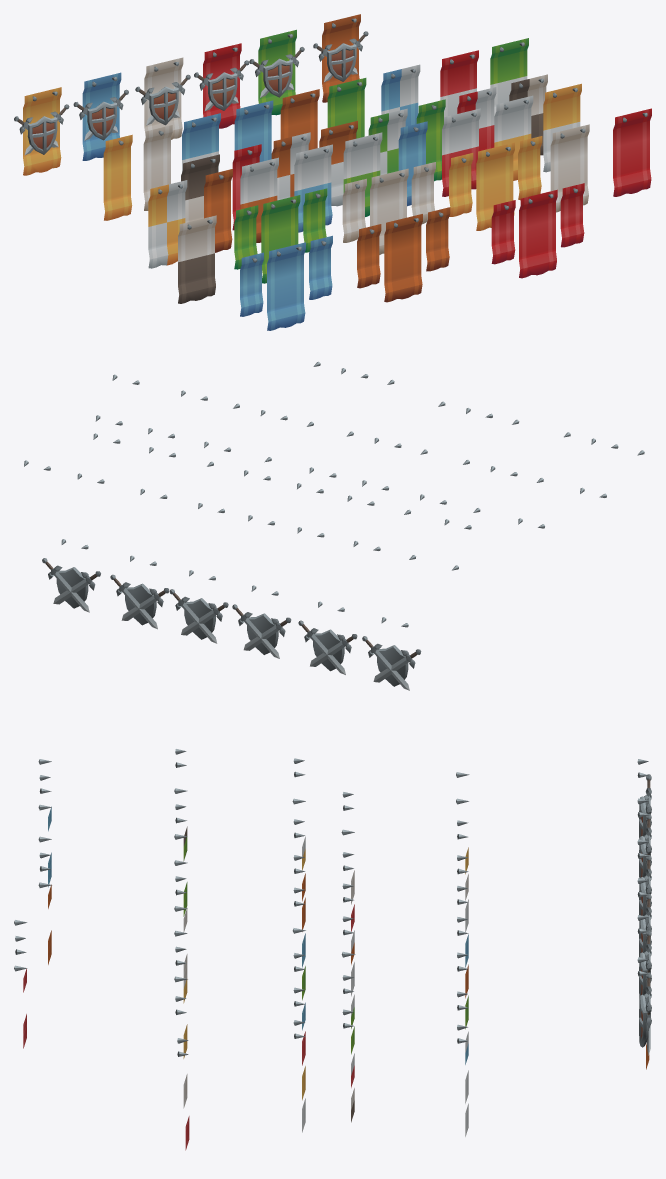
The model's file is banners_dungeon_game_assets.glb.
3 views of the same model, one above another, from view 1: azimuth 30°, elevation 25°; view 2: azimuth 150°, elevation 25°; view 3: azimuth 270°, elevation 25° (orthographic). The views are drawn at different scales.
Visible parts, largest first — view 1: banner_triple_brown, banner_triple_red, banner_triple_blue, banner_triple_yellow, banner_triple_white, banner_triple_green, banner_shield_yellow, banner_patternB_white, banner_red, banner_shield_blue, banner_shield_red, banner_shield_white (+29 smaller); view 2: banner_shield_brown, banner_shield_yellow, banner_shield_red, banner_shield_green, banner_shield_white, banner_shield_blue; view 3: banner_shield_brown.
Boxes of the visible parts, <box> form: banner_triple_brown: <box>357,207,450,302</box>; banner_triple_red: <box>491,183,584,278</box>; banner_triple_blue: <box>240,235,332,330</box>; banner_triple_yellow: <box>449,136,542,230</box>; banner_triple_white: <box>342,162,435,254</box>; banner_triple_green: <box>234,188,327,283</box>; banner_shield_yellow: <box>14,87,69,175</box>; banner_patternB_white: <box>178,215,216,303</box>; banner_red: <box>613,108,651,196</box>; banner_shield_blue: <box>73,72,128,160</box>; banner_shield_red: <box>194,43,249,128</box>; banner_shield_white: <box>135,57,190,139</box>; banner_shield_brown: <box>42,539,100,612</box>; banner_shield_yellow: <box>362,617,421,690</box>; banner_shield_red: <box>169,570,228,643</box>; banner_shield_green: <box>110,555,169,629</box>; banner_shield_white: <box>232,585,291,658</box>; banner_shield_blue: <box>298,601,357,674</box>; banner_shield_brown: <box>637,957,651,1069</box>.
Size of the model in its own units: 19.19 by 3.2 by 16.5.
42 materials, 42 textured.
